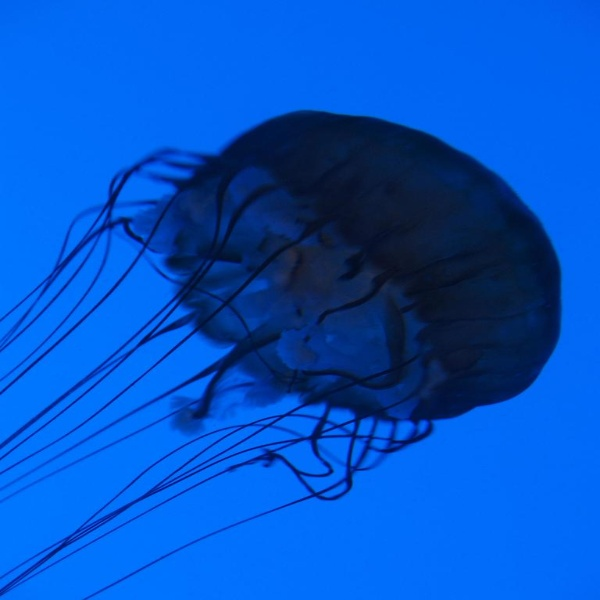Jellyfish: (12, 75, 576, 594)
